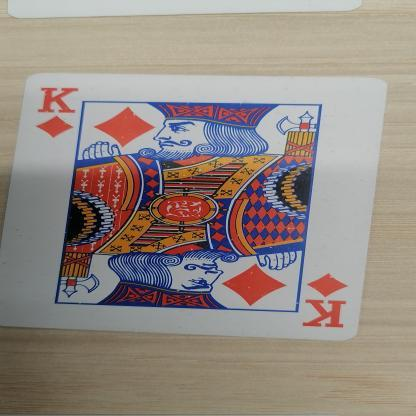KD: (277, 262, 351, 332), (28, 76, 96, 142)
